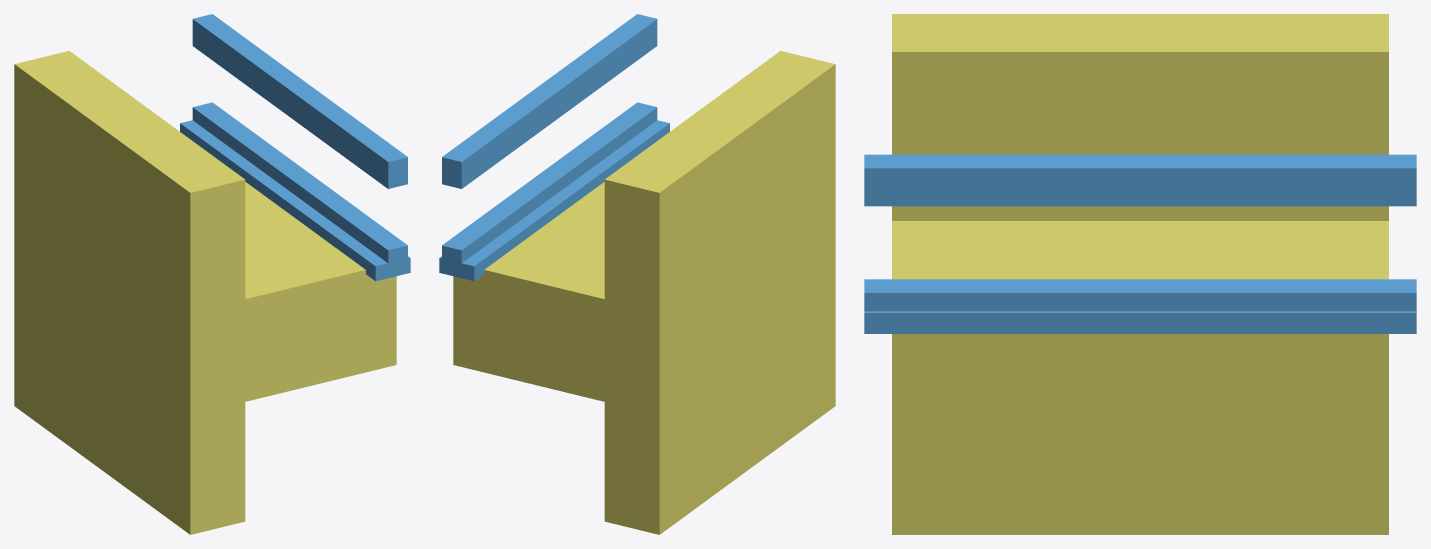
Rendered from level 1 building.fbx.
The picture shows the model from 3 angles, left to right: view 1: azimuth 30°, elevation 25°; view 2: azimuth 150°, elevation 25°; view 3: azimuth 270°, elevation 25°; orthographic projection. The views are drawn at different scales.
Visible parts, largest first — view 1: Cube.002, Cube.001, Cube.004, Cube.003, Cube; view 2: Cube.002, Cube.001, Cube.004, Cube.003, Cube; view 3: Cube.002, Cube.001, Cube.004, Cube.003, Cube.
Part boxes in pixels (left/top/right/bottom): Cube.002: left=14, top=51, right=245, bottom=534; Cube.001: left=240, top=182, right=396, bottom=401; Cube.004: left=192, top=14, right=407, bottom=188; Cube.003: left=192, top=102, right=407, bottom=263; Cube: left=180, top=120, right=410, bottom=281; Cube.002: left=604, top=51, right=835, bottom=534; Cube.001: left=453, top=182, right=609, bottom=402; Cube.004: left=442, top=14, right=657, bottom=188; Cube.003: left=442, top=102, right=657, bottom=264; Cube: left=439, top=120, right=669, bottom=281; Cube.002: left=892, top=14, right=1388, bottom=534; Cube.001: left=892, top=221, right=1388, bottom=470; Cube.004: left=864, top=154, right=1416, bottom=206; Cube.003: left=864, top=279, right=1416, bottom=311; Cube: left=864, top=311, right=1416, bottom=333.
Size of the model in its own units: 766 by 1190 by 1234.
